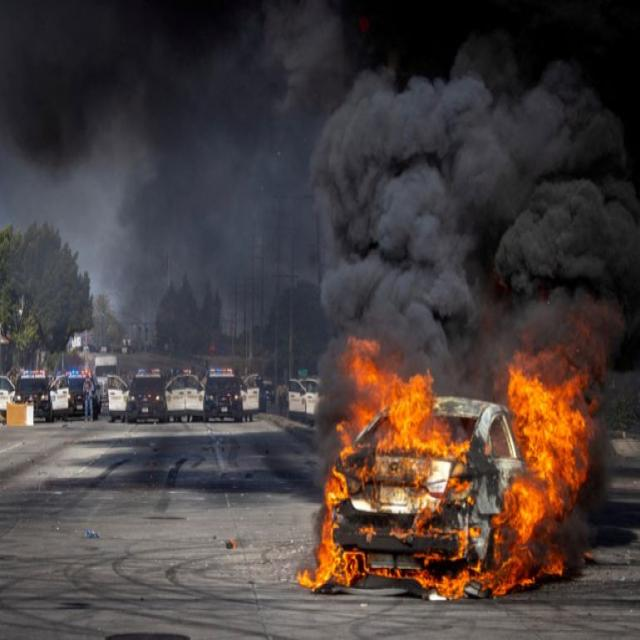fire: (494, 313, 610, 535), (337, 338, 469, 472), (296, 470, 413, 592), (413, 462, 494, 598), (492, 532, 565, 598)
